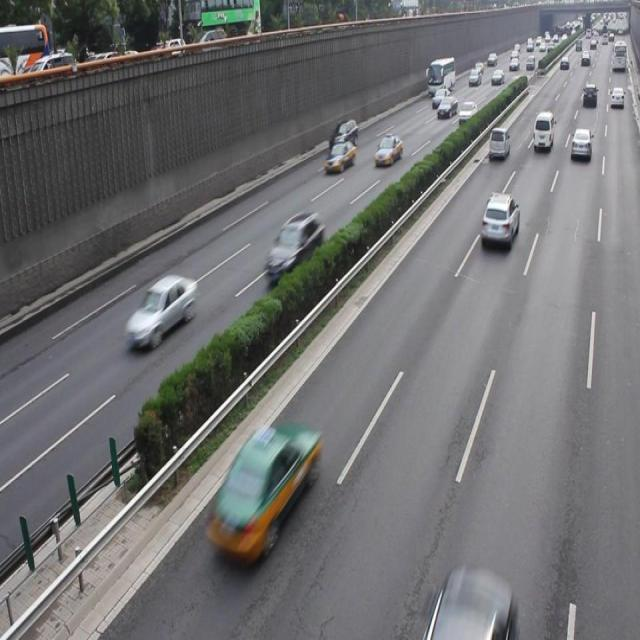car: (207, 425, 316, 563), (124, 273, 196, 347), (262, 212, 323, 286), (479, 192, 518, 250), (323, 139, 354, 174), (373, 136, 402, 166)
